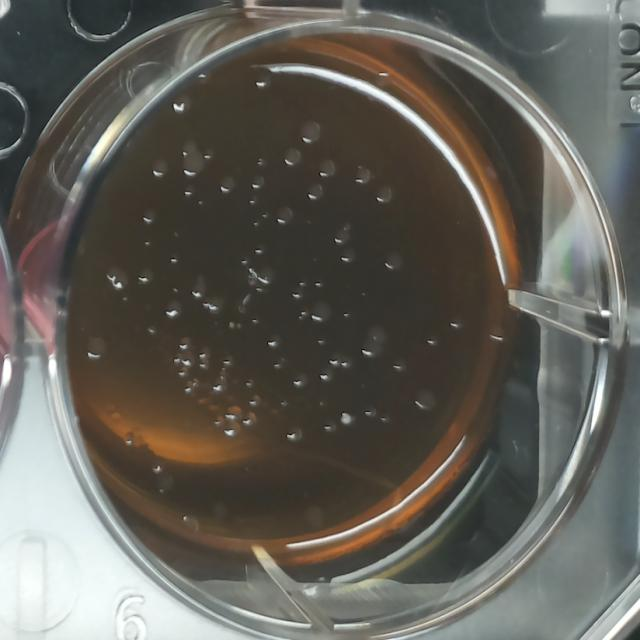Staphylococcus: (338, 409, 355, 430), (227, 320, 235, 330), (235, 321, 243, 331)
